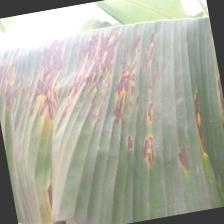sigatoka: (0, 9, 224, 224)
